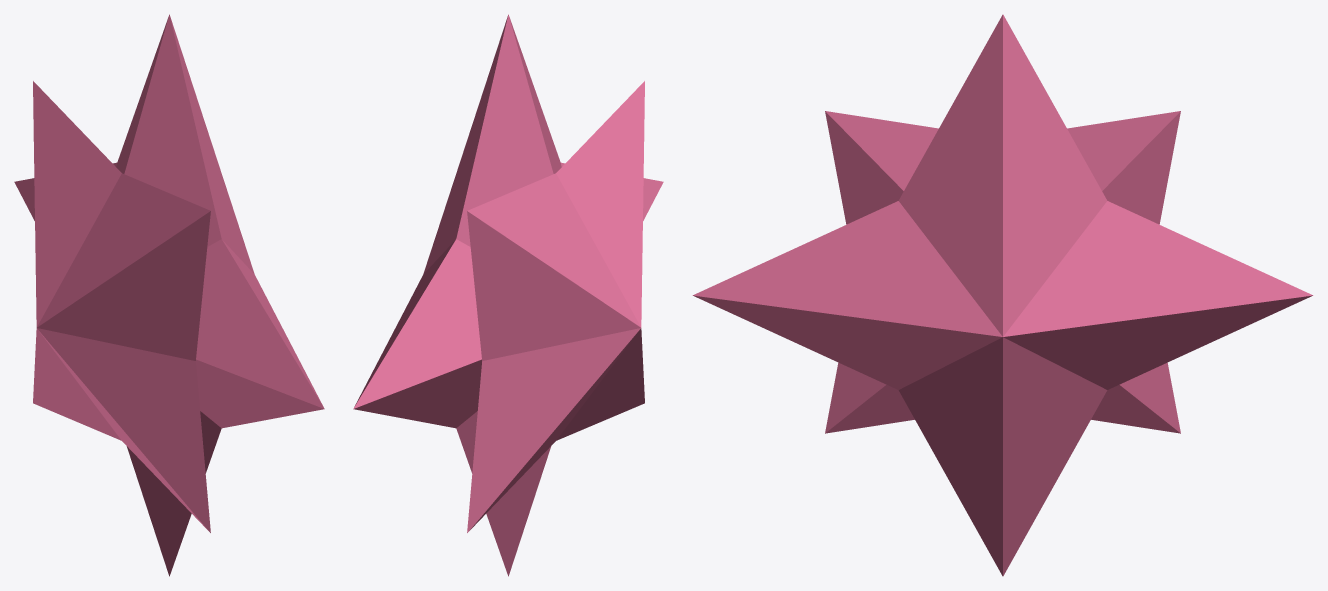
Rendered from StarSliverSpawnModel.fbx.
The picture shows the model from 3 angles, left to right: view 1: azimuth 30°, elevation 25°; view 2: azimuth 150°, elevation 25°; view 3: azimuth 270°, elevation 25°; orthographic projection.
Parts seen in each view (by area): view 1: StarSliver.001; view 2: StarSliver.001; view 3: StarSliver.001.
Boxes of the visible parts, x1,y1,x2,y2 form: StarSliver.001: [14, 14, 324, 576]; StarSliver.001: [353, 14, 663, 576]; StarSliver.001: [692, 14, 1313, 576].
Bounding box in the file's own units: 147 × 362 × 362.
